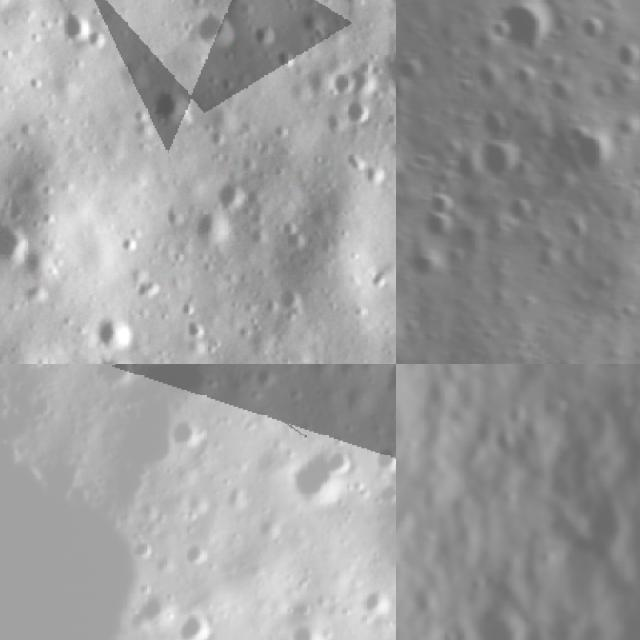crater: (442, 573, 555, 640), (278, 439, 365, 519), (142, 80, 205, 143), (359, 19, 396, 124), (184, 0, 246, 61), (80, 302, 143, 362), (492, 4, 555, 64), (182, 204, 243, 264), (563, 126, 618, 184), (44, 0, 101, 54), (203, 168, 259, 222), (0, 210, 41, 281), (332, 90, 383, 139), (320, 59, 368, 107), (243, 14, 289, 60), (476, 143, 520, 190), (169, 605, 228, 640), (164, 415, 213, 457), (124, 590, 174, 630), (14, 279, 58, 321), (443, 145, 485, 189), (175, 310, 217, 350), (79, 20, 120, 60), (402, 247, 446, 284), (82, 364, 140, 392), (357, 581, 396, 622), (176, 537, 219, 572), (126, 530, 163, 564), (371, 364, 396, 413), (478, 110, 512, 146), (285, 616, 336, 640), (418, 212, 453, 246), (366, 480, 396, 516), (580, 17, 610, 50), (587, 364, 640, 382), (83, 349, 145, 364), (427, 194, 460, 222), (614, 41, 640, 74), (0, 296, 13, 347), (488, 18, 511, 46), (580, 0, 617, 10), (388, 452, 396, 479)
